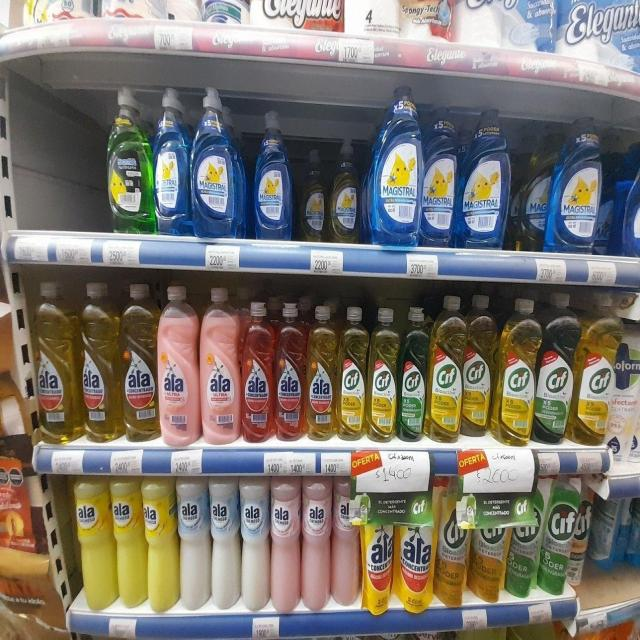ala_conc_amarillo: (32, 278, 77, 444), (78, 278, 118, 444), (120, 280, 158, 443), (306, 303, 336, 442)
ala_conc_rojo: (242, 296, 274, 444), (275, 300, 305, 442)
ala_crem_amarillo: (72, 474, 112, 612), (113, 474, 144, 612)
ala_crem_blanco: (178, 474, 209, 613), (240, 475, 270, 613), (210, 474, 240, 612)
ala_crem_rosado: (270, 474, 300, 615), (301, 474, 331, 612), (332, 472, 361, 609)
ala_sachet_amarillo: (396, 483, 434, 612), (363, 494, 393, 614)
ala_ultra_rosa: (158, 283, 198, 446), (200, 284, 240, 445)
cif_conc_bot_amarilla: (575, 293, 615, 446), (497, 295, 535, 444), (428, 294, 462, 441), (463, 293, 495, 437), (338, 304, 367, 442), (368, 306, 397, 442)
cif_conc_botella_verde: (536, 290, 574, 444), (398, 305, 427, 442)
cif_conc_sachet_amarillo: (435, 478, 469, 608)
cif_conc_sachet_verde: (541, 477, 577, 596)
magistral_con_amarillo: (330, 138, 360, 244), (299, 147, 328, 242), (31, 0, 57, 25)
magistral_con_azul: (370, 85, 420, 246), (192, 86, 240, 238), (459, 107, 509, 250), (552, 116, 602, 255), (154, 87, 189, 234), (254, 109, 292, 240), (619, 124, 640, 258)
